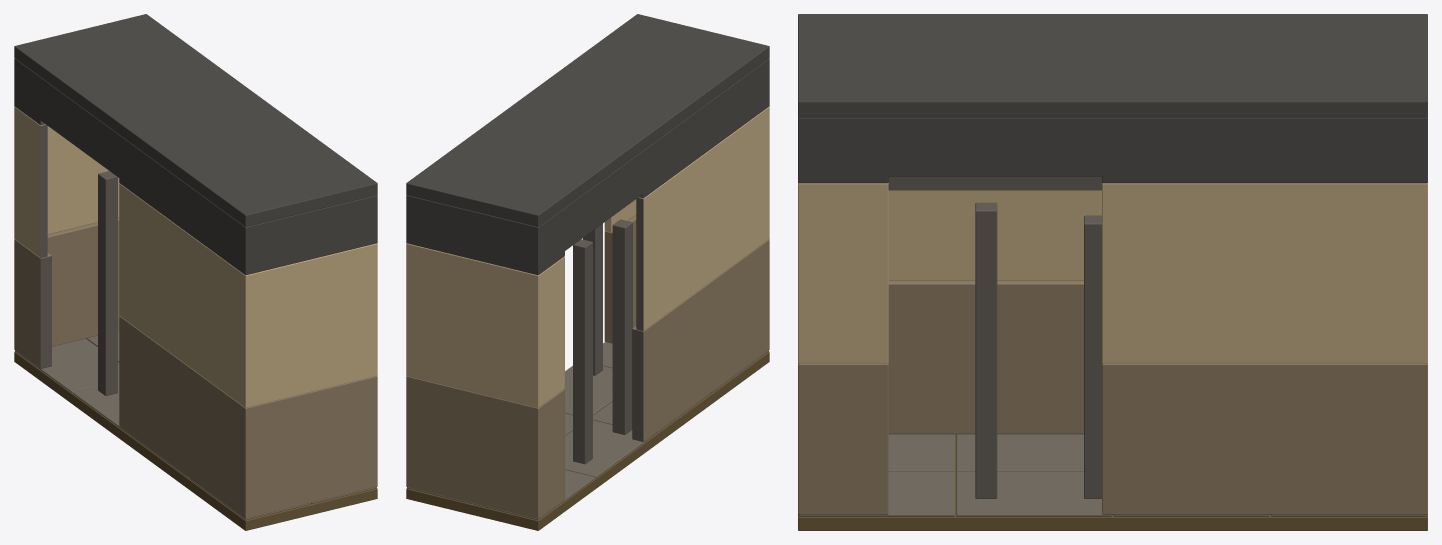
The model's file is gen-elbow.glb.
3 renders of one model, left to right at view 1: azimuth 30°, elevation 25°; view 2: azimuth 150°, elevation 25°; view 3: azimuth 270°, elevation 25°, orthographic. The views are drawn at different scales.
Visible parts, largest first — view 1: THE ELBOW; view 2: THE ELBOW; view 3: THE ELBOW.
Boxes of the visible parts, x1,y1,x2,y2 form: THE ELBOW: [14, 14, 377, 530]; THE ELBOW: [406, 14, 769, 530]; THE ELBOW: [798, 14, 1427, 530].
Size of the model in its own units: 1.15 by 2.62 by 3.48.
